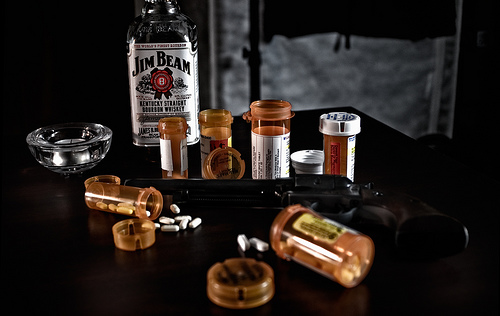pill bottle: (269, 203, 377, 292), (244, 98, 295, 181), (84, 180, 166, 224), (318, 109, 362, 179), (202, 108, 234, 181), (158, 118, 190, 183)
